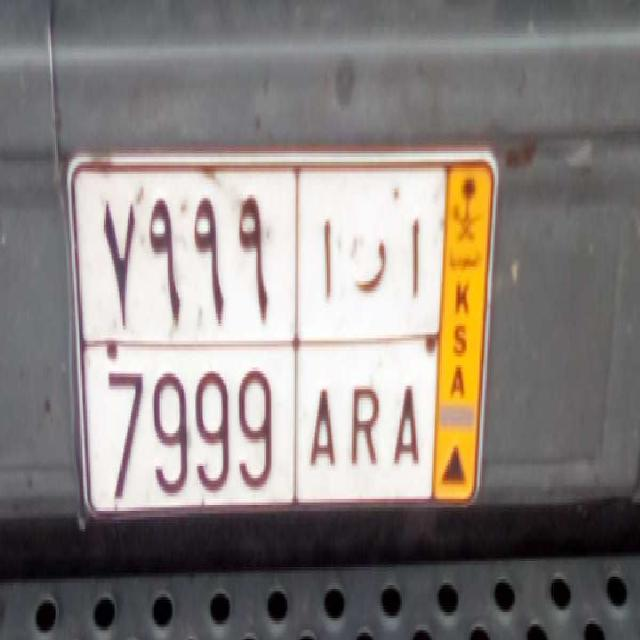license_plate: (81, 337, 437, 511)
